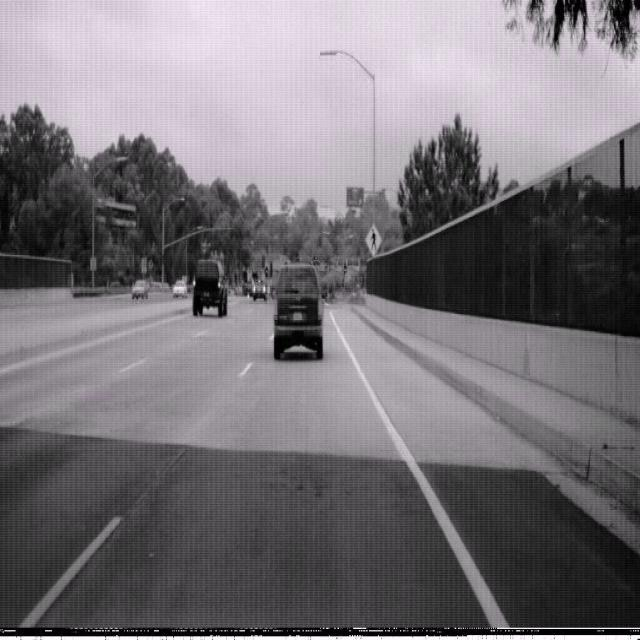pedestrianCrossing: (363, 220, 382, 258)
